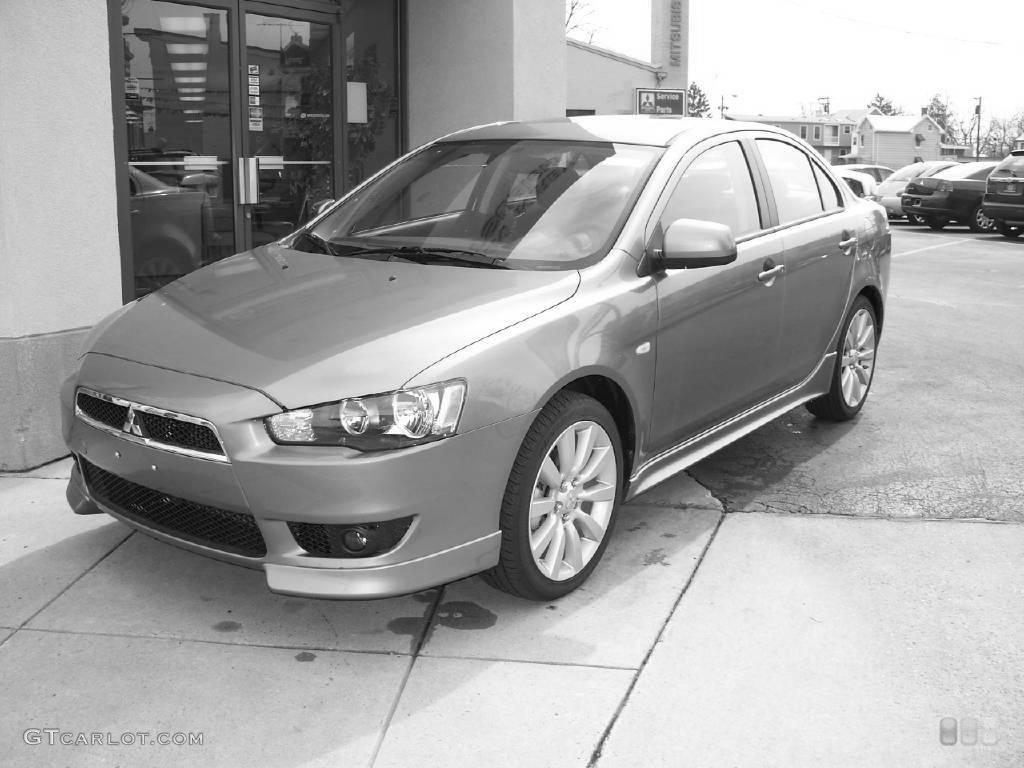car: (53, 105, 892, 604)
